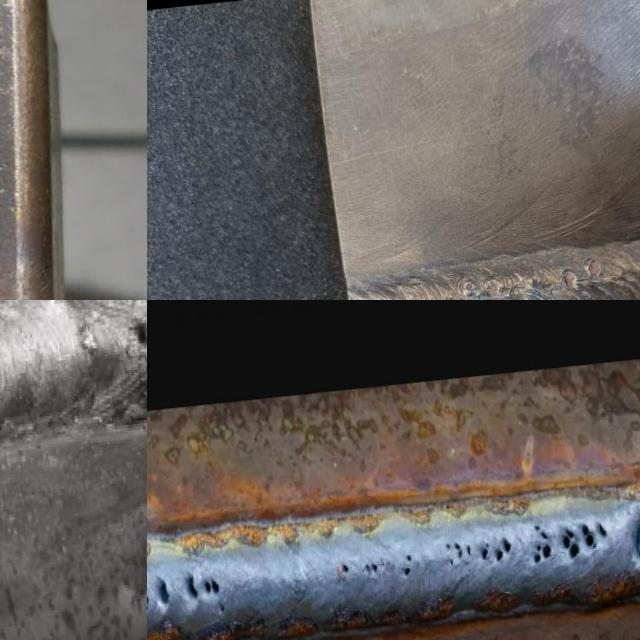defect: (182, 571, 228, 615), (125, 305, 147, 363), (531, 521, 554, 568), (479, 537, 516, 564), (443, 540, 472, 567), (559, 527, 579, 564), (581, 521, 597, 552), (459, 274, 476, 299), (484, 275, 501, 300), (157, 576, 170, 608), (398, 552, 414, 577), (586, 258, 603, 280), (561, 268, 578, 290), (364, 560, 380, 577), (597, 521, 608, 539), (339, 562, 350, 576), (530, 273, 538, 285)
